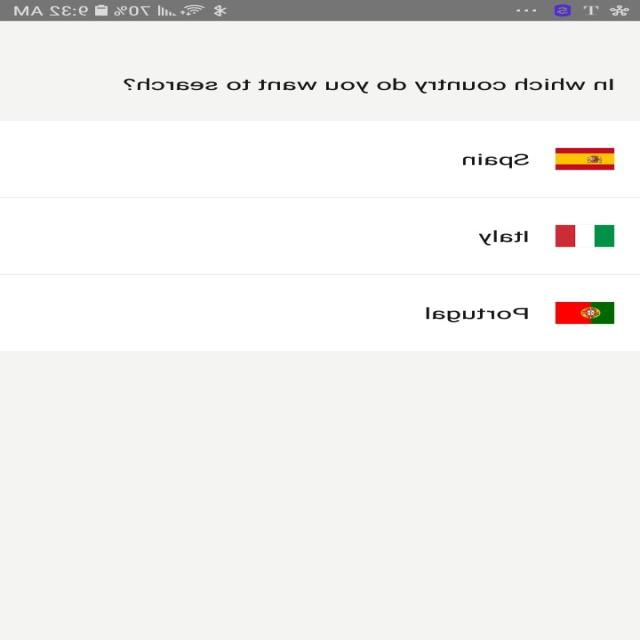Image: (554, 301, 614, 324), (554, 224, 614, 247), (554, 148, 616, 170)
Text: (124, 78, 614, 94), (426, 306, 529, 323), (478, 230, 529, 245)
